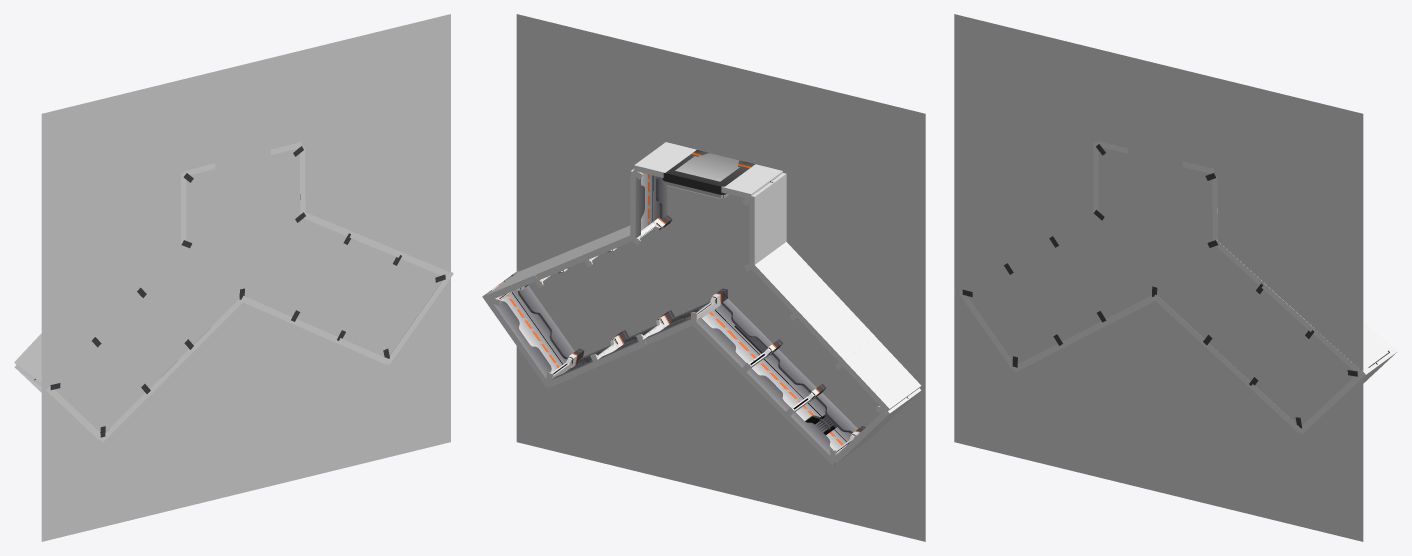
The model's file is Room 1.fbx.
3 renders of one model, left to right at view 1: azimuth 30°, elevation 25°; view 2: azimuth 150°, elevation 25°; view 3: azimuth 330°, elevation 25°, orthographic.
Visible parts, largest first — view 1: Plane.039, b.005; view 2: Plane.039, b.005, b.004, b, b.003, TEXTURED_WT_ExposedPanel.001, Final Door, b.001, b.002, a.007, TEXTURED_WT_ExposedPanel.002, a.006 (+9 smaller); view 3: Plane.039, a.004, a.007.
Part boxes in pixels (left/top/right/bottom): Plane.039: left=41, top=14, right=450, bottom=541; b.005: left=14, top=333, right=41, bottom=382; Plane.039: left=516, top=14, right=925, bottom=541; b.005: left=841, top=337, right=921, bottom=412; b.004: left=795, top=288, right=875, bottom=363; b: left=692, top=298, right=772, bottom=371; b.003: left=750, top=242, right=829, bottom=315; TEXTURED_WT_ExposedPanel.001: left=749, top=173, right=786, bottom=266; Final Door: left=662, top=150, right=755, bottom=198; b.001: left=739, top=349, right=816, bottom=418; b.002: left=786, top=393, right=857, bottom=465; a.007: left=482, top=271, right=554, bottom=348; TEXTURED_WT_ExposedPanel.002: left=630, top=169, right=667, bottom=239; a.006: left=519, top=323, right=574, bottom=387; Plane.039: left=954, top=14, right=1363, bottom=541; a.004: left=1312, top=321, right=1392, bottom=373; a.007: left=1325, top=347, right=1397, bottom=408.
Bounding box in the file's own units: 11353 × 11274 × 1529.
6 materials, 6 textured.
